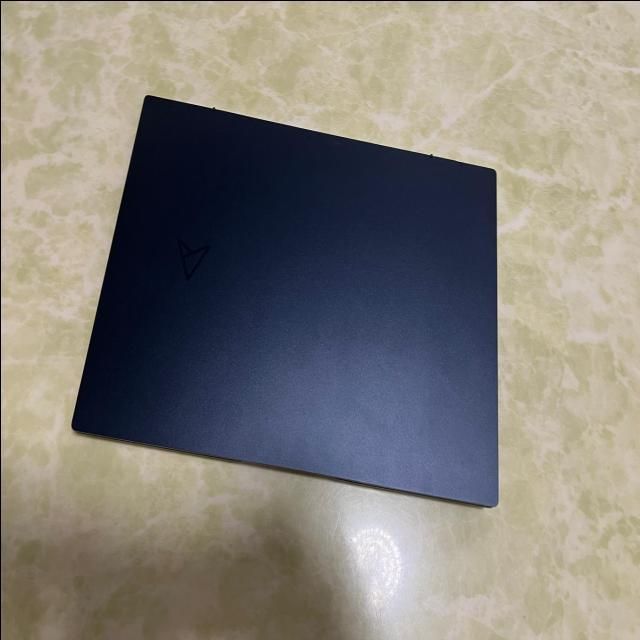laptop: (70, 93, 499, 508)
